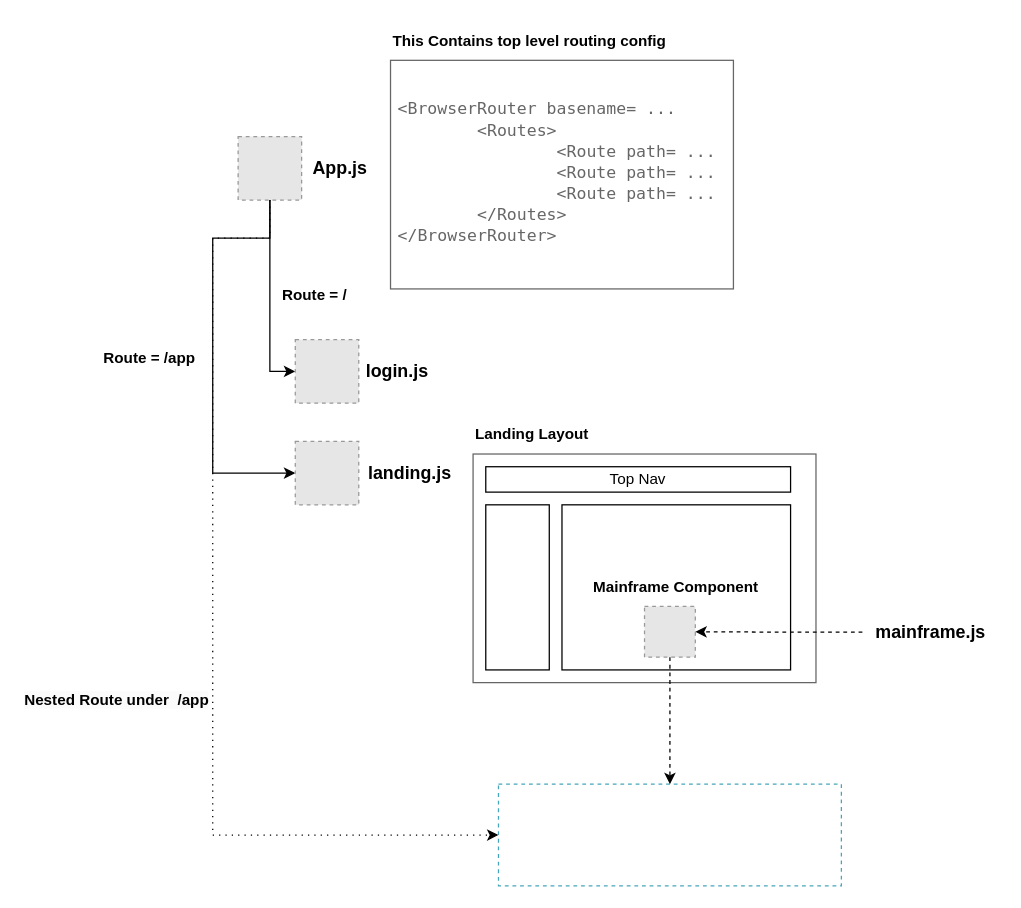
This 1021x908 diagram has some shape labels left out. Grey dashed boxes stand in for pictures. The shapes that lost their labels are listed below. From the top down, each one's centre as x and y in pixels, then its label:
the point at 517,587: Side Nav
the point at 669,834: Mainframe will have <Outlet /> component which will display nested routes
